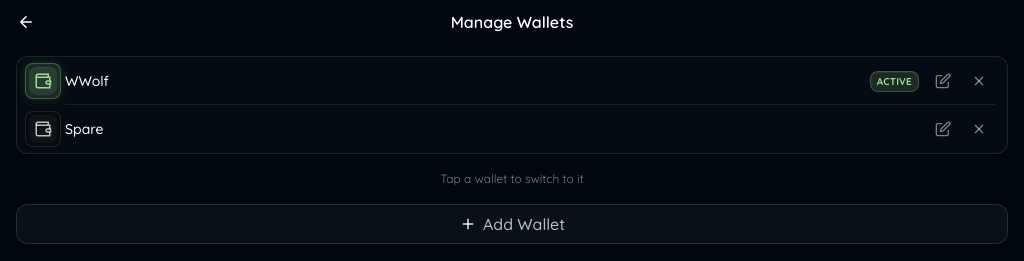
Test: ManageWalletsView rename › saves the new name and leaves editing
Click the 1st button titled "Rename wallet": (943, 81) left=927, top=65, right=959, bottom=97
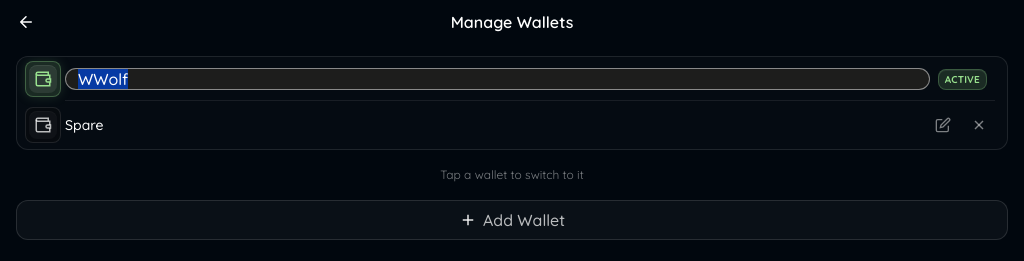
Replace the text in the field with class "rename-input" with "  Cold storage  ": (497, 79) left=65, top=68, right=930, bottom=90
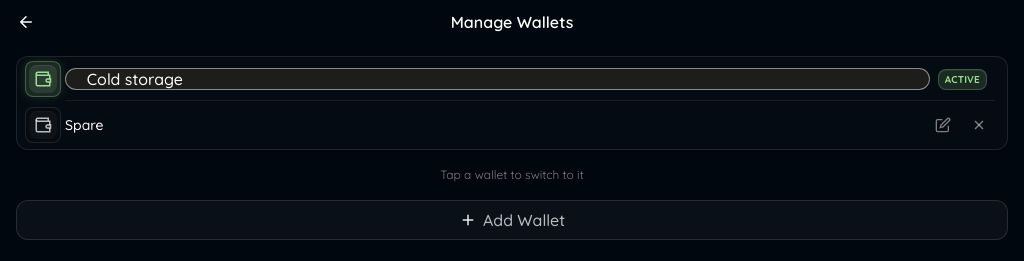
Press Enter in the field with class "rename-input", box left=65, top=68, right=930, bottom=90
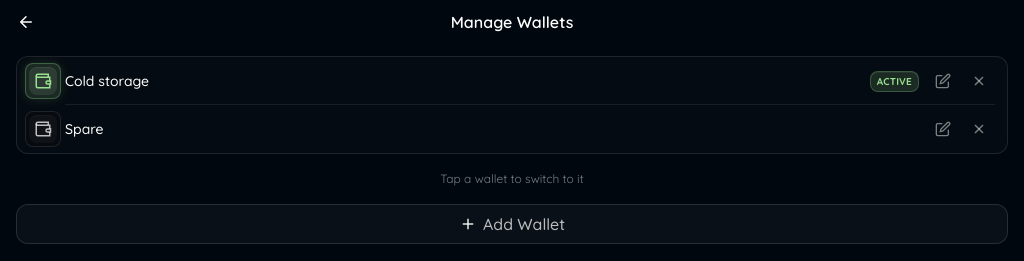
Check: the text "Cold storage" is shown, box left=65, top=72, right=149, bottom=90
